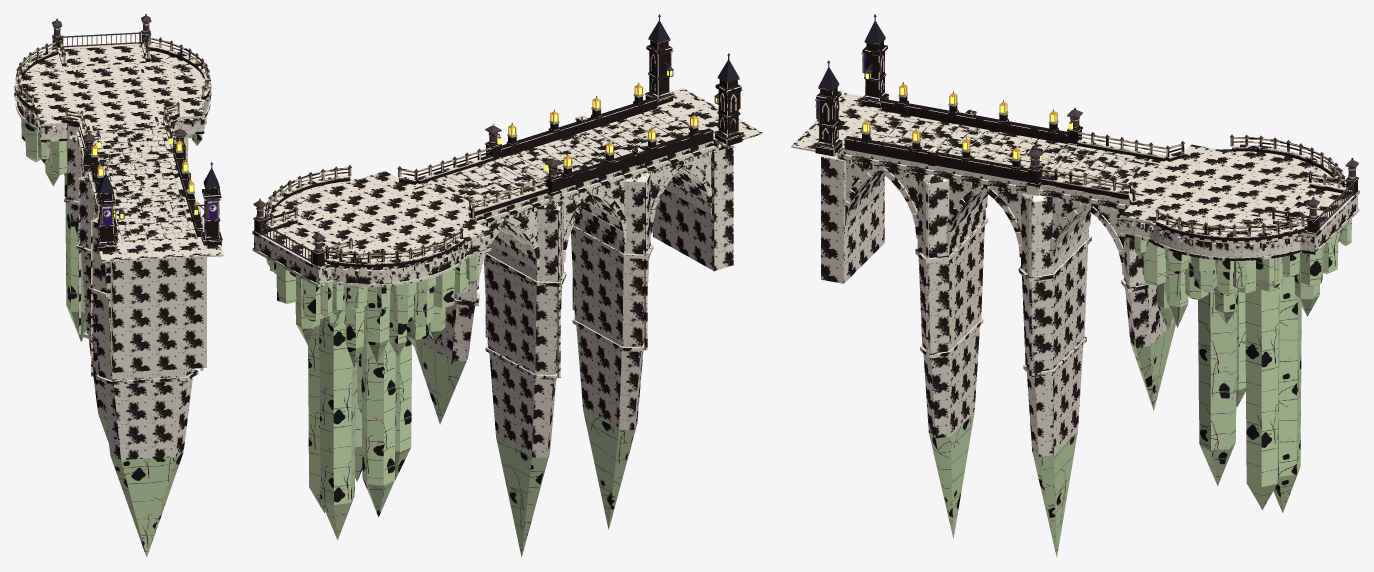
File: ILHA3_08_NEXT_ISLAND_ac1e1a.fbx
3 views of the same model, side by side, from view 1: azimuth 30°, elevation 25°; view 2: azimuth 150°, elevation 25°; view 3: azimuth 270°, elevation 25° (orthographic). The views are drawn at different scales.
Parts seen in each view (by area): view 1: SG_Exit_Bridge__Stone_SG_Block, SG_Exit_Bridge__Stone_Paving_SG, SG_Exit_Bridge__Cliff_Rock_SG_Dark, SG_Exit_Bridge__Stone_SG_Trim, SG_Exit_Head__Stone_Paving_SG, SG_Exit_Rails__Stone_SG_Trim, SG_Exit_Rails__Wood_Lacquer_Red, SG_Exit_Head__Stone_SG_Trim, SG_Exit_Rails__P_DS_Black, SG_Exit_Head__Stone_SG_Castle_B, SG_Exit_Bridge__Stone_SG_Floor, SG_Exit_Rails__Stone_SG_Block (+6 smaller); view 2: SG_Exit_Bridge__Stone_SG_Block, SG_Exit_Bridge__Cliff_Rock_SG_Dark, SG_Exit_Bridge__Stone_Paving_SG, SG_Exit_Bridge__Stone_SG_Trim, SG_Exit_Rails__Stone_SG_Trim, SG_Exit_Rails__Wood_Lacquer_Red, SG_Exit_Rails__Stone_SG_Block, SG_Exit_Bridge__Cliff_Rock_SG, SG_Exit_Rails__Stone_SG_Block_B, SG_Exit_Head__Stone_SG_Castle_B, SG_Exit_Head__Stone_Paving_SG, SG_Exit_Head__Stone_SG_Trim (+3 smaller); view 3: SG_Exit_Bridge__Stone_SG_Block, SG_Exit_Bridge__Cliff_Rock_SG_Dark, SG_Exit_Bridge__Stone_Paving_SG, SG_Exit_Bridge__Stone_SG_Trim, SG_Exit_Rails__Stone_SG_Trim, SG_Exit_Bridge__Cliff_Rock_SG, SG_Exit_Rails__Wood_Lacquer_Red, SG_Exit_Rails__Stone_SG_Block, SG_Exit_Rails__Stone_SG_Block_B, SG_Exit_Head__Stone_SG_Castle_B, SG_Exit_Head__Stone_Paving_SG, SG_Exit_Head__Stone_SG_Trim (+2 smaller).
Part boxes in pixels (left/top/right/bottom): SG_Exit_Bridge__Stone_SG_Block: left=17, top=99, right=208, bottom=459; SG_Exit_Bridge__Stone_Paving_SG: left=20, top=43, right=205, bottom=240; SG_Exit_Bridge__Cliff_Rock_SG_Dark: left=21, top=116, right=206, bottom=557; SG_Exit_Bridge__Stone_SG_Trim: left=14, top=43, right=211, bottom=384; SG_Exit_Head__Stone_Paving_SG: left=102, top=237, right=220, bottom=259; SG_Exit_Rails__Stone_SG_Trim: left=14, top=30, right=211, bottom=234; SG_Exit_Rails__Wood_Lacquer_Red: left=16, top=14, right=209, bottom=151; SG_Exit_Head__Stone_SG_Trim: left=95, top=183, right=223, bottom=262; SG_Exit_Rails__P_DS_Black: left=16, top=15, right=209, bottom=152; SG_Exit_Head__Stone_SG_Castle_B: left=98, top=188, right=219, bottom=242; SG_Exit_Bridge__Stone_SG_Floor: left=23, top=56, right=194, bottom=240; SG_Exit_Rails__Stone_SG_Block: left=15, top=43, right=210, bottom=236; SG_Exit_Bridge__Stone_SG_Block: left=254, top=141, right=733, bottom=457; SG_Exit_Bridge__Cliff_Rock_SG_Dark: left=266, top=251, right=636, bottom=557; SG_Exit_Bridge__Stone_Paving_SG: left=252, top=110, right=689, bottom=267; SG_Exit_Bridge__Stone_SG_Trim: left=252, top=108, right=716, bottom=379; SG_Exit_Rails__Stone_SG_Trim: left=253, top=97, right=713, bottom=267; SG_Exit_Rails__Wood_Lacquer_Red: left=256, top=123, right=557, bottom=262; SG_Exit_Rails__Stone_SG_Block: left=262, top=101, right=657, bottom=268; SG_Exit_Bridge__Cliff_Rock_SG: left=267, top=259, right=445, bottom=340; SG_Exit_Rails__Stone_SG_Block_B: left=278, top=133, right=713, bottom=268; SG_Exit_Head__Stone_SG_Castle_B: left=649, top=40, right=740, bottom=134; SG_Exit_Head__Stone_Paving_SG: left=657, top=90, right=757, bottom=144; SG_Exit_Head__Stone_SG_Trim: left=644, top=38, right=762, bottom=146; SG_Exit_Bridge__Stone_SG_Block: left=821, top=149, right=1357, bottom=456; SG_Exit_Bridge__Cliff_Rock_SG_Dark: left=929, top=219, right=1351, bottom=557; SG_Exit_Bridge__Stone_Paving_SG: left=856, top=113, right=1349, bottom=240; SG_Exit_Bridge__Stone_SG_Trim: left=841, top=111, right=1359, bottom=377; SG_Exit_Rails__Stone_SG_Trim: left=844, top=99, right=1359, bottom=237; SG_Exit_Bridge__Cliff_Rock_SG: left=1142, top=232, right=1338, bottom=299; SG_Exit_Rails__Wood_Lacquer_Red: left=1030, top=108, right=1356, bottom=236; SG_Exit_Rails__Stone_SG_Block: left=844, top=114, right=1337, bottom=242; SG_Exit_Rails__Stone_SG_Block_B: left=881, top=104, right=1351, bottom=242; SG_Exit_Head__Stone_SG_Castle_B: left=816, top=41, right=884, bottom=144; SG_Exit_Head__Stone_Paving_SG: left=796, top=95, right=881, bottom=153; SG_Exit_Head__Stone_SG_Trim: left=791, top=38, right=889, bottom=155.
Size of the model in its own units: 70.96 by 108 by 115.
11 materials, 3 textured.
